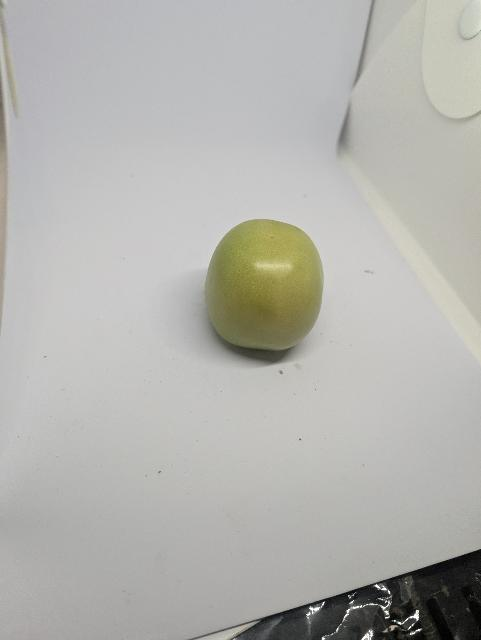green: (203, 217, 327, 352)
